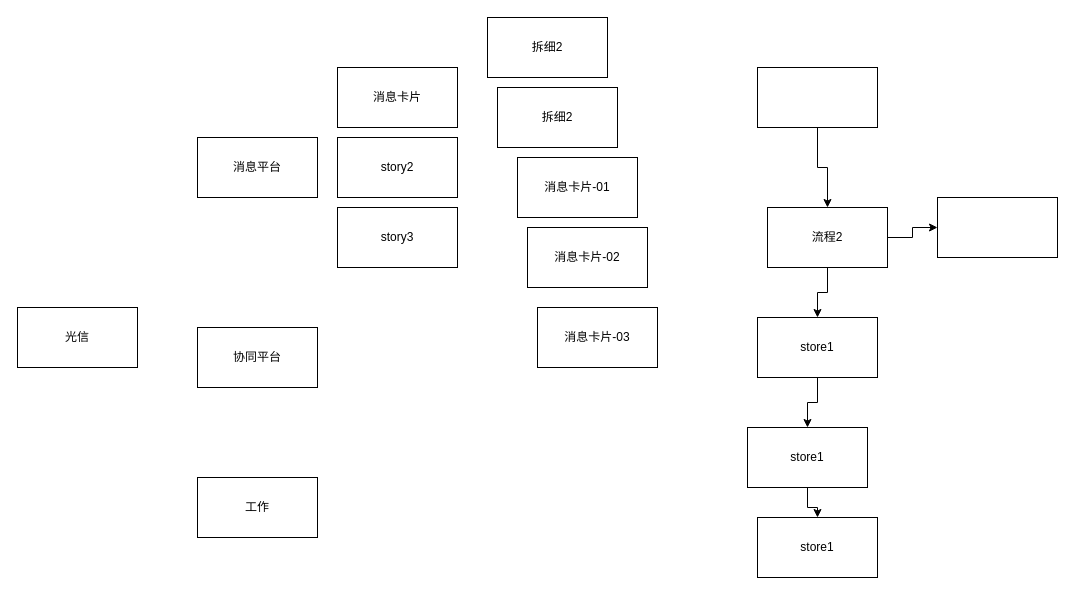
Image size: 1075x595. Some labels were removed from this diagram. The box of each missing label's shape, as (x1, y1, x2, y2) in pixels:
流程1: (756, 66, 878, 128)
流程3: (936, 196, 1058, 258)
